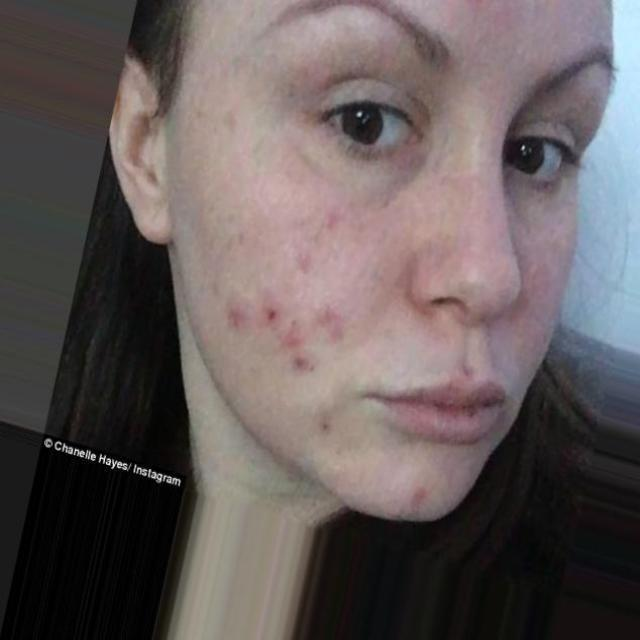acne: (221, 298, 321, 363), (330, 286, 364, 388), (398, 473, 450, 518), (306, 404, 350, 446)
